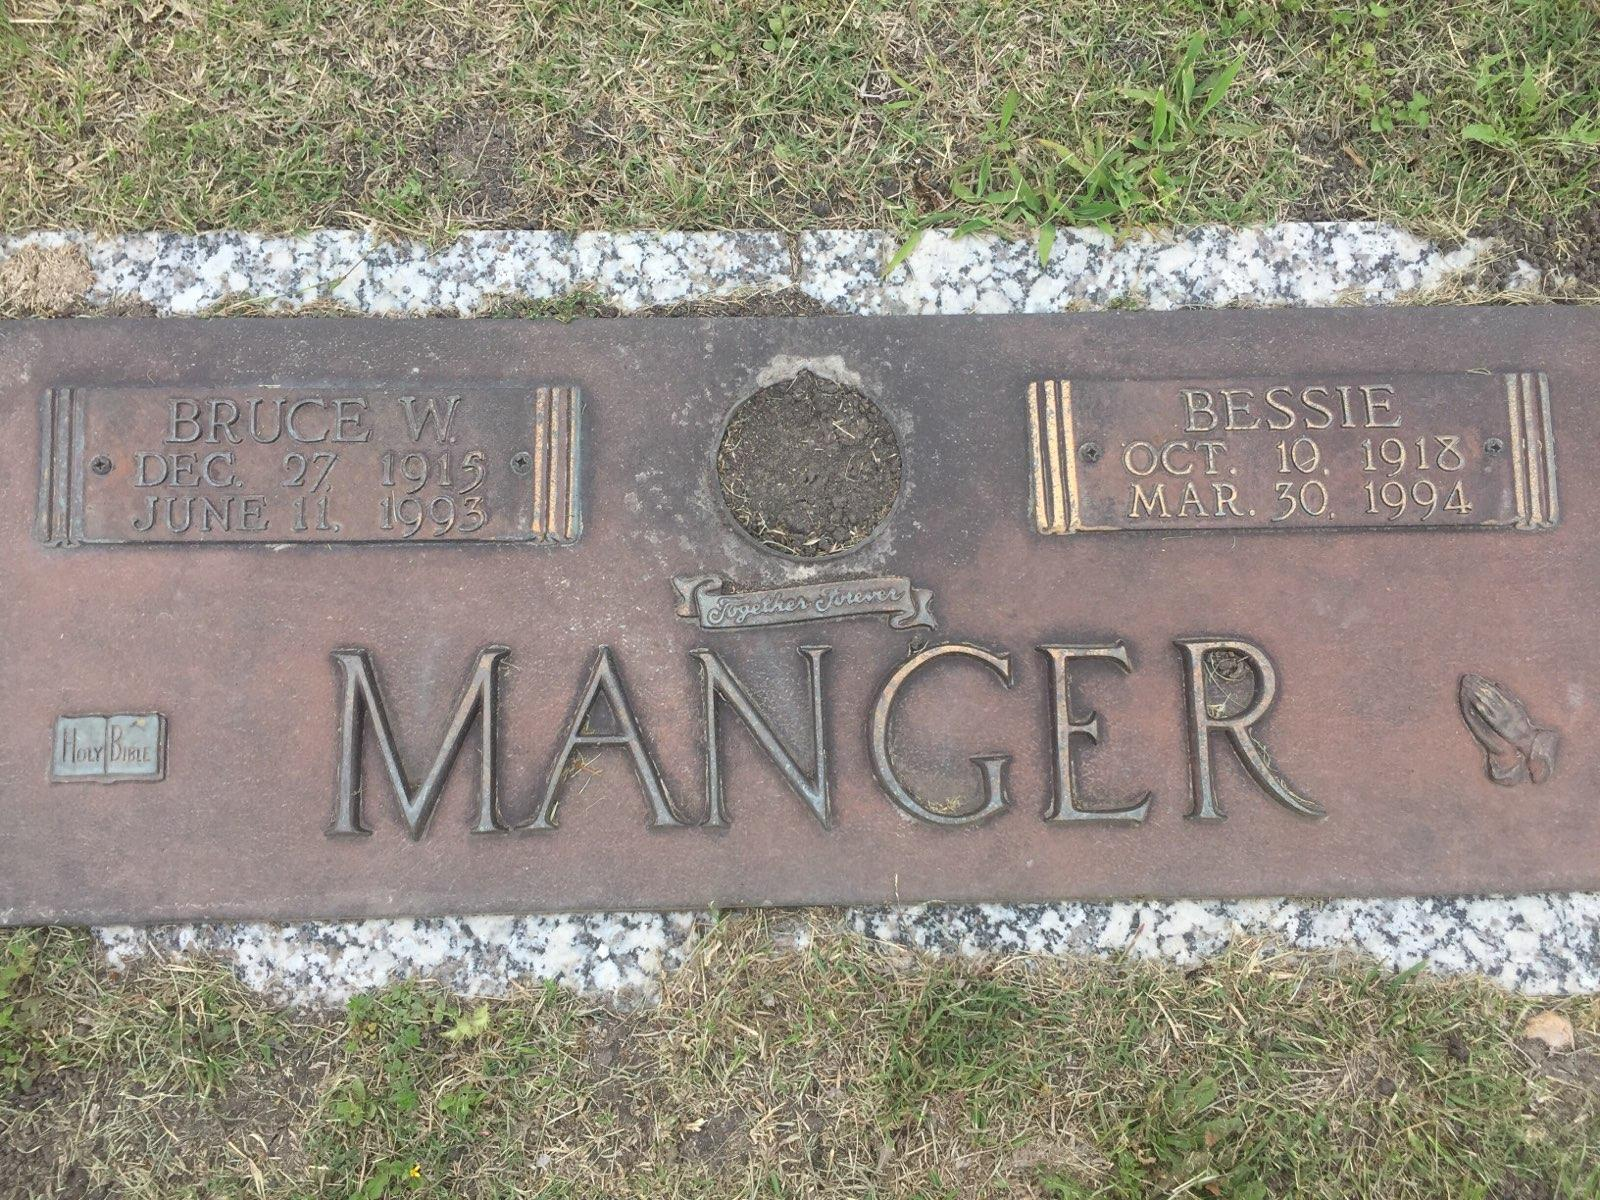flat: (0, 228, 1600, 993)
